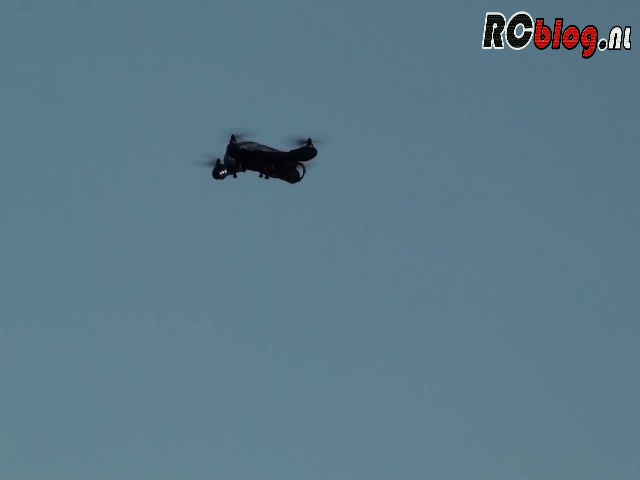drone: (194, 126, 327, 187)
